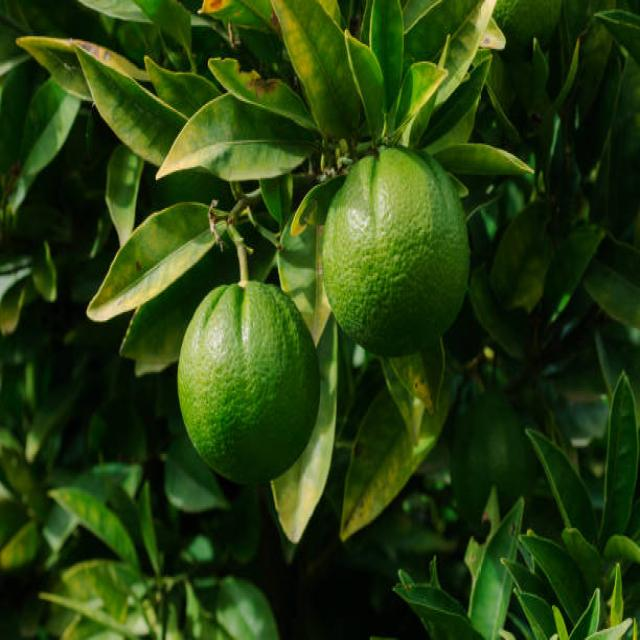Unripe: (322, 137, 470, 350), (177, 276, 320, 484)
